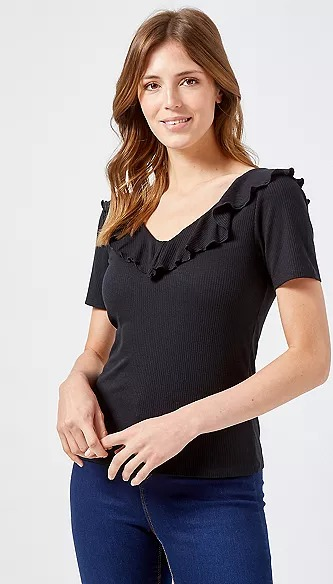C_jeans: (71, 478, 264, 584)
S_short blouse: (81, 166, 327, 482)
